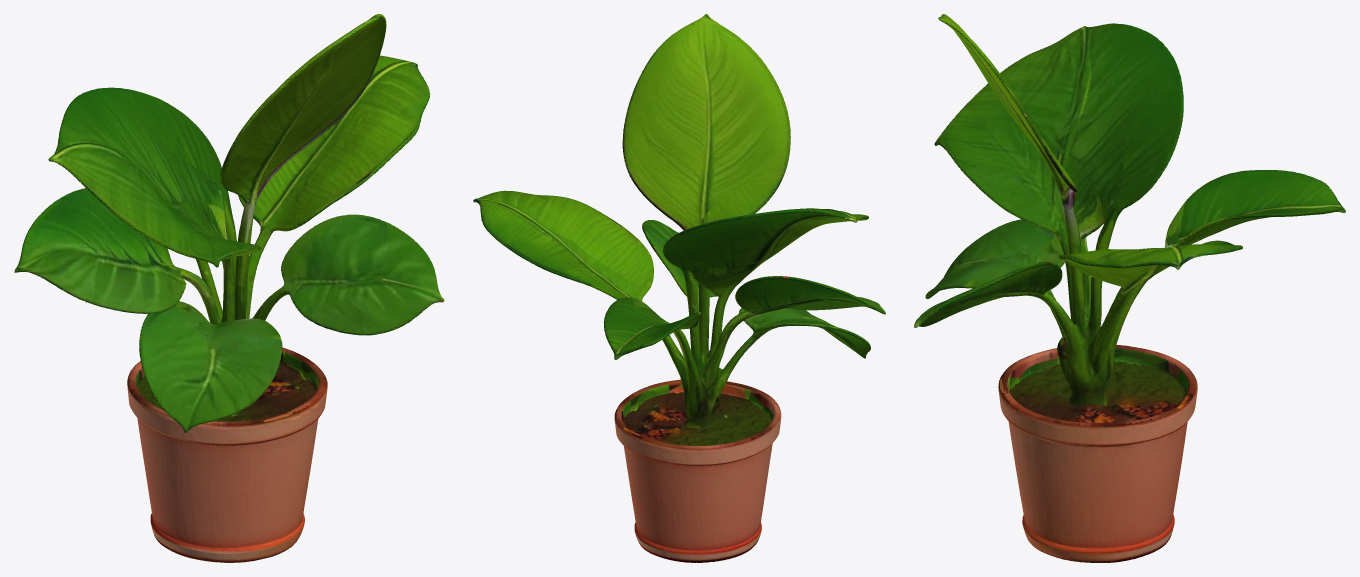
Rendered from biomechanical-growth-planter-generated-2026-04-18T02-38-02-192Z.medium.glb.
3 views of the same model, side by side, from view 1: azimuth 30°, elevation 25°; view 2: azimuth 150°, elevation 25°; view 3: azimuth 270°, elevation 25° (orthographic). The views are drawn at different scales.
Visible parts, largest first — view 1: temp_mesh.ply; view 2: temp_mesh.ply; view 3: temp_mesh.ply.
Part boxes in pixels (x1,y1,x2,y2): temp_mesh.ply: (14,14,444,562); temp_mesh.ply: (473,14,885,562); temp_mesh.ply: (914,14,1345,562).
Size of the model in its own units: 1.67 by 1.97 by 1.4.
1 material, 1 textured.
